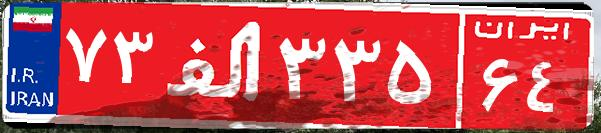3: (273, 28, 330, 110), (330, 28, 385, 110), (110, 28, 158, 105)
4: (525, 38, 570, 115)
5: (385, 28, 445, 110)
6: (475, 38, 525, 113)
7: (57, 26, 110, 107)
الف: (158, 15, 273, 115)
